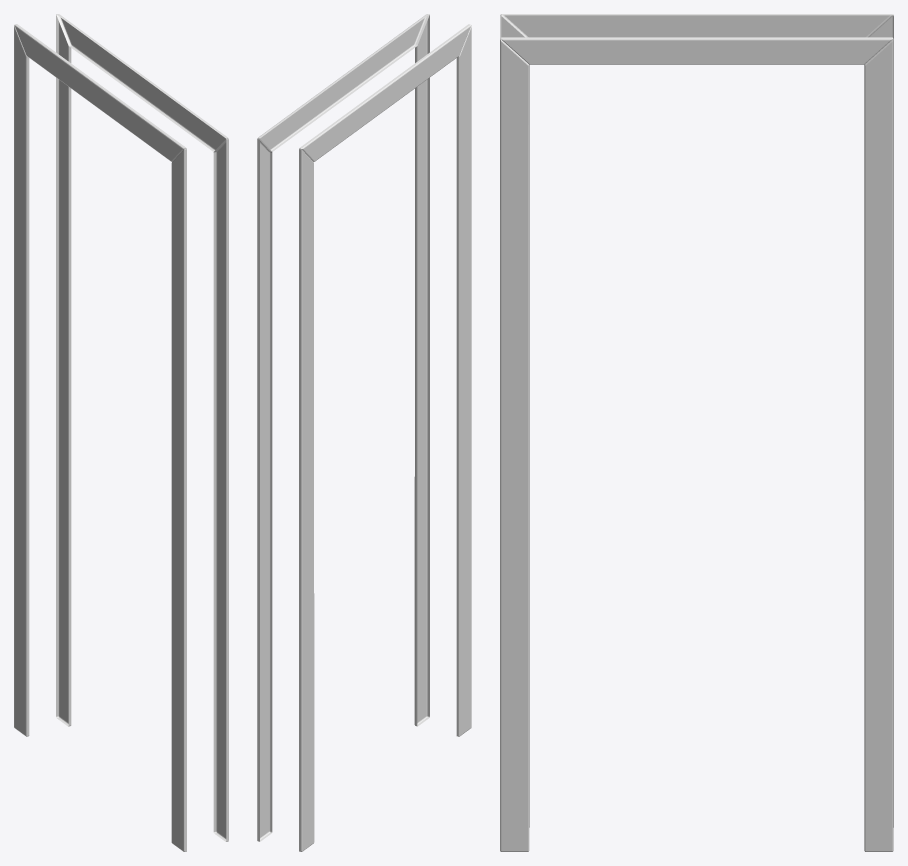
The model's file is door_walkthrough.fbx.
The picture shows the model from 3 angles, left to right: view 1: azimuth 30°, elevation 25°; view 2: azimuth 150°, elevation 25°; view 3: azimuth 270°, elevation 25°; orthographic projection. The views are drawn at different scales.
Visible parts, largest first — view 1: Cube.001; view 2: Cube.001; view 3: Cube.001.
Part boxes in pixels (bbox=[...]): Cube.001: bbox=[14, 14, 228, 851]; Cube.001: bbox=[257, 14, 471, 851]; Cube.001: bbox=[500, 14, 893, 851].
Bounding box in the file's own units: 13.96 × 207 × 90.91.
Materials: 1 (1 with a texture image).
